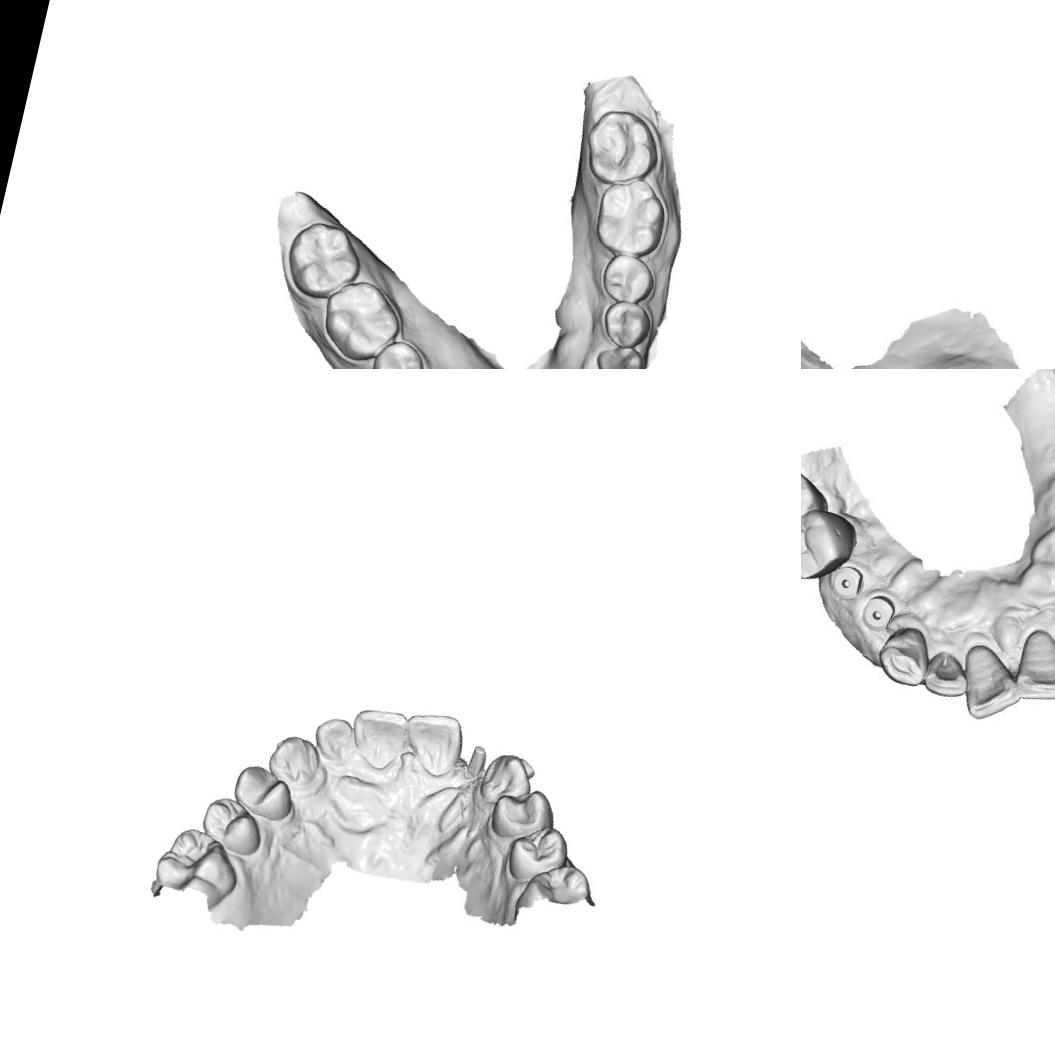canine: (873, 624, 940, 692), (262, 726, 328, 794), (476, 748, 537, 813), (589, 340, 648, 369)
crown: (462, 737, 490, 783)
implant: (857, 594, 895, 635), (826, 562, 862, 599)
incisor: (952, 639, 1026, 726), (396, 704, 471, 782), (340, 700, 416, 776), (1007, 625, 1055, 710), (304, 710, 364, 770), (921, 647, 973, 706)
molar: (146, 822, 248, 912), (314, 272, 408, 369), (278, 215, 370, 308), (577, 103, 667, 194), (587, 170, 674, 264), (801, 504, 849, 583), (801, 465, 816, 532)
premolar: (502, 817, 578, 893), (226, 752, 300, 830), (484, 779, 560, 851), (195, 789, 272, 860), (598, 249, 660, 308), (598, 295, 655, 353), (367, 335, 428, 369)
